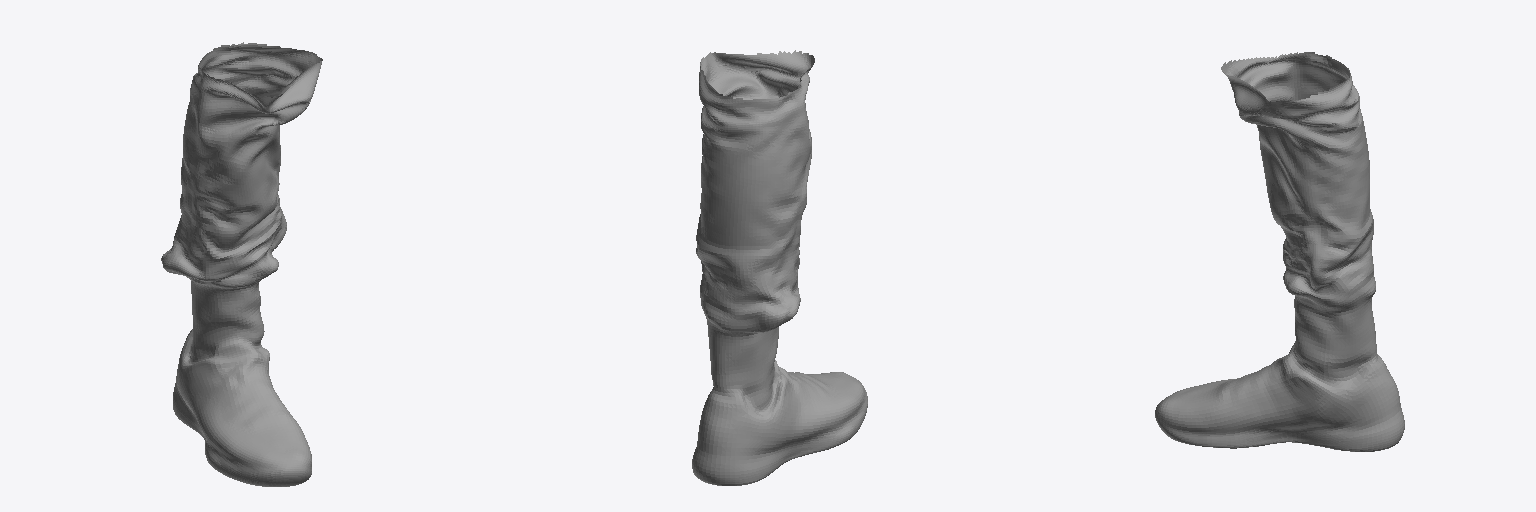
File: pie1.obj
The picture shows the model from 3 angles: view 1: azimuth 30°, elevation 25°; view 2: azimuth 150°, elevation 25°; view 3: azimuth 270°, elevation 25°; orthographic projection.
Visible parts, largest first — view 1: RUST_3d_Low.001; view 2: RUST_3d_Low.001; view 3: RUST_3d_Low.001.
Boxes of the visible parts, x1=… form: RUST_3d_Low.001: x1=161, y1=42, x2=322, y2=486; RUST_3d_Low.001: x1=692, y1=50, x2=867, y2=485; RUST_3d_Low.001: x1=1155, y1=52, x2=1404, y2=451.
Bounding box in the file's own units: 16.09 × 45.39 × 27.76.